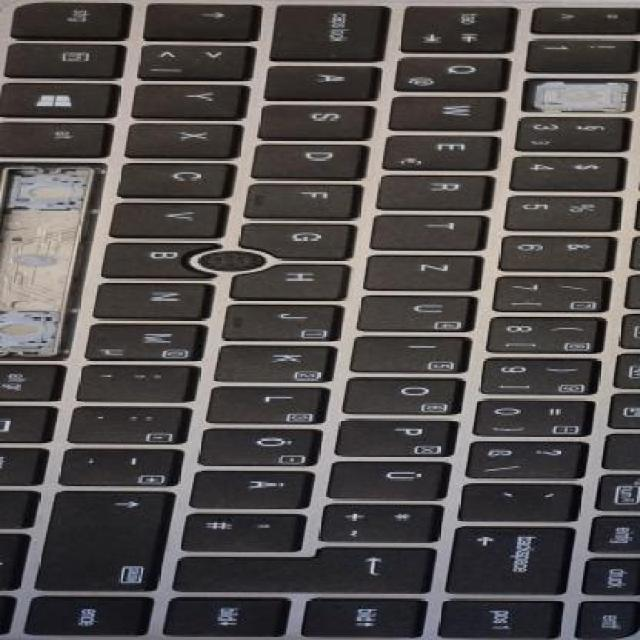Keyboard problems: (1, 154, 112, 366), (517, 64, 638, 119)
